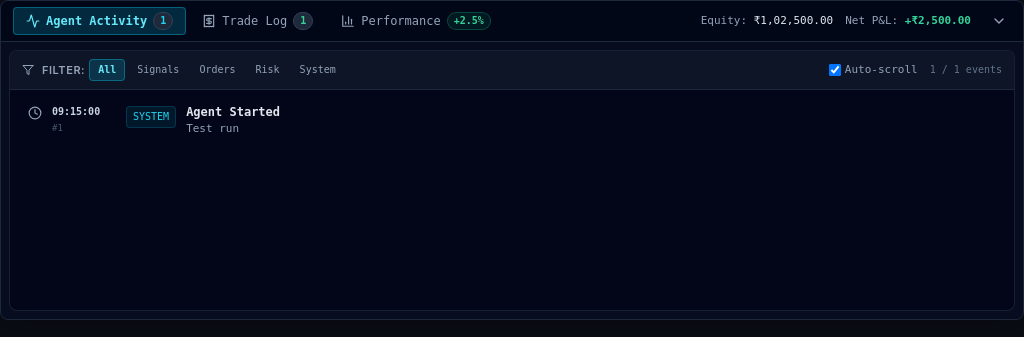
Phase 10D: Bottom Terminal Workspace & Components › BottomTerminalWorkspace Component › supports collapsing and expanding the terminal panel
This screenshot has width=1024, height=337.
# Toggle collapse
Step 1. Click the button with test id "workspace-toggle-collapse" → (999, 21), box [987,9,1011,33]
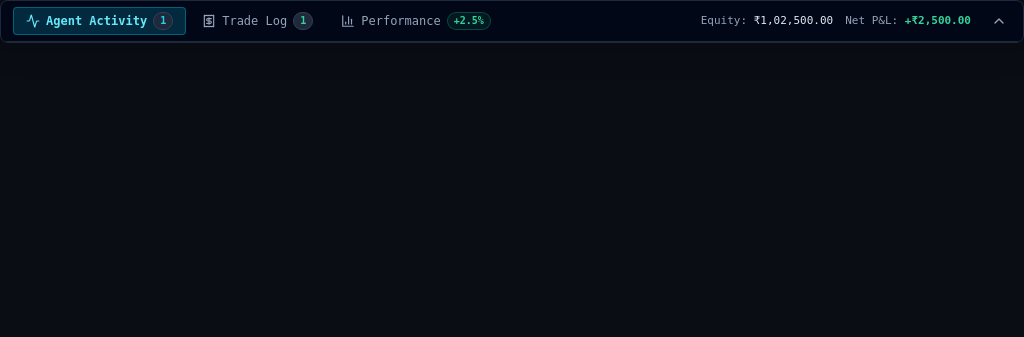
Expected: the element with test id "activity-feed" is gone
# Toggle back expand
Step 2. Click the button with test id "workspace-toggle-collapse" → (999, 21), box [987,9,1011,33]
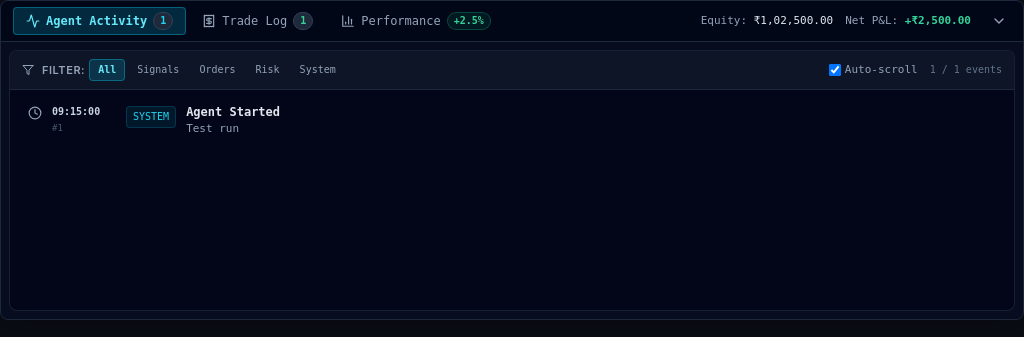
Expected: the element with test id "activity-feed" is shown
